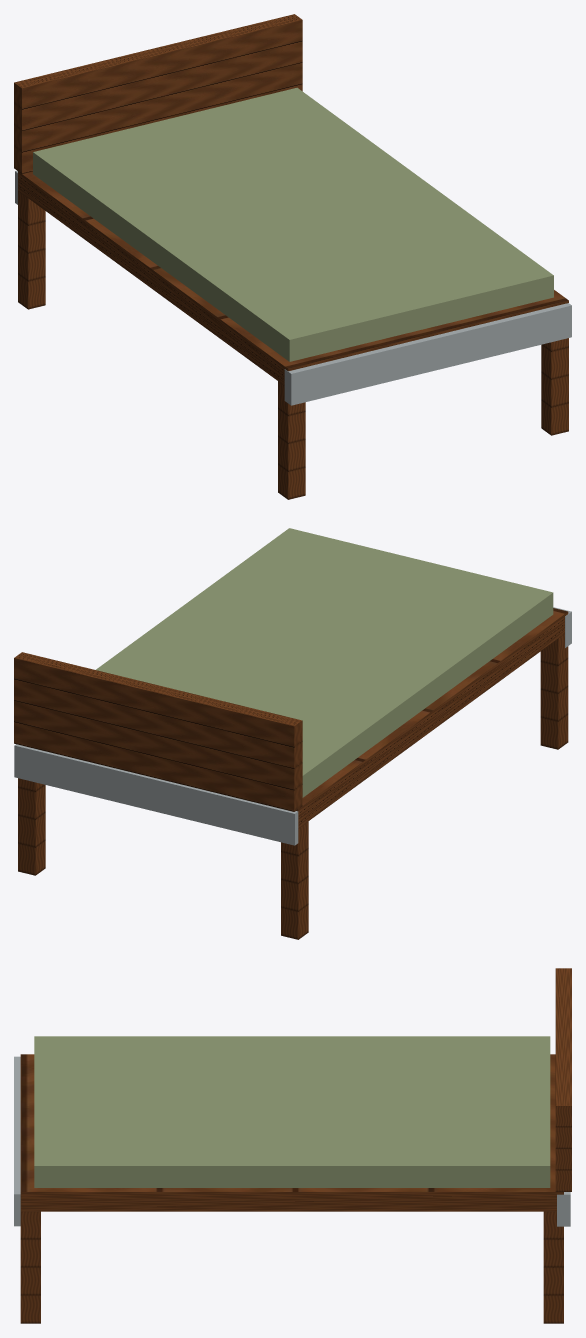
File: rural-scavenging-settlements-cottage-bedframe-5e6d1b44__26584.glb
3 renders of one model, top to bottom at view 1: azimuth 30°, elevation 25°; view 2: azimuth 150°, elevation 25°; view 3: azimuth 270°, elevation 25°, orthographic.
Parts seen in each view (by area): view 1: cottage-bedframe; view 2: cottage-bedframe; view 3: cottage-bedframe.
Part boxes in pixels (x1=…): cottage-bedframe: x1=14, y1=14, x2=571, y2=499; cottage-bedframe: x1=14, y1=528, x2=571, y2=939; cottage-bedframe: x1=14, y1=968, x2=571, y2=1323.
Bounding box in the file's own units: 1.2 × 0.885 × 2.06.
Materials: 3 (1 with a texture image).
